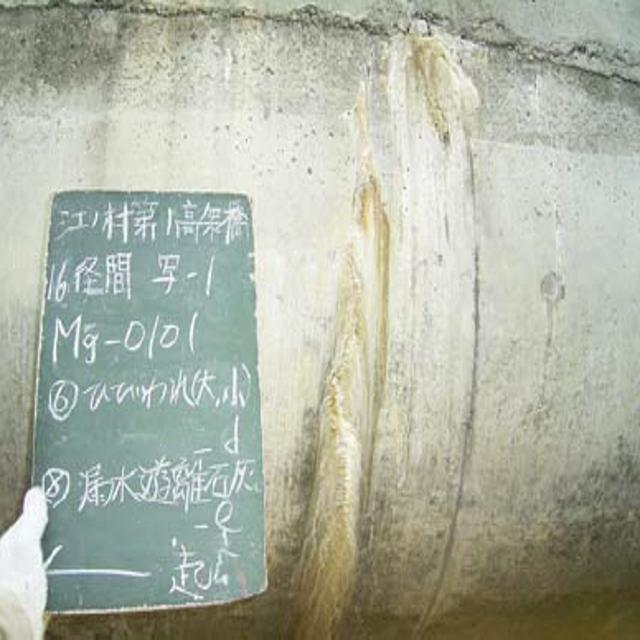freelime: (307, 173, 399, 616)
